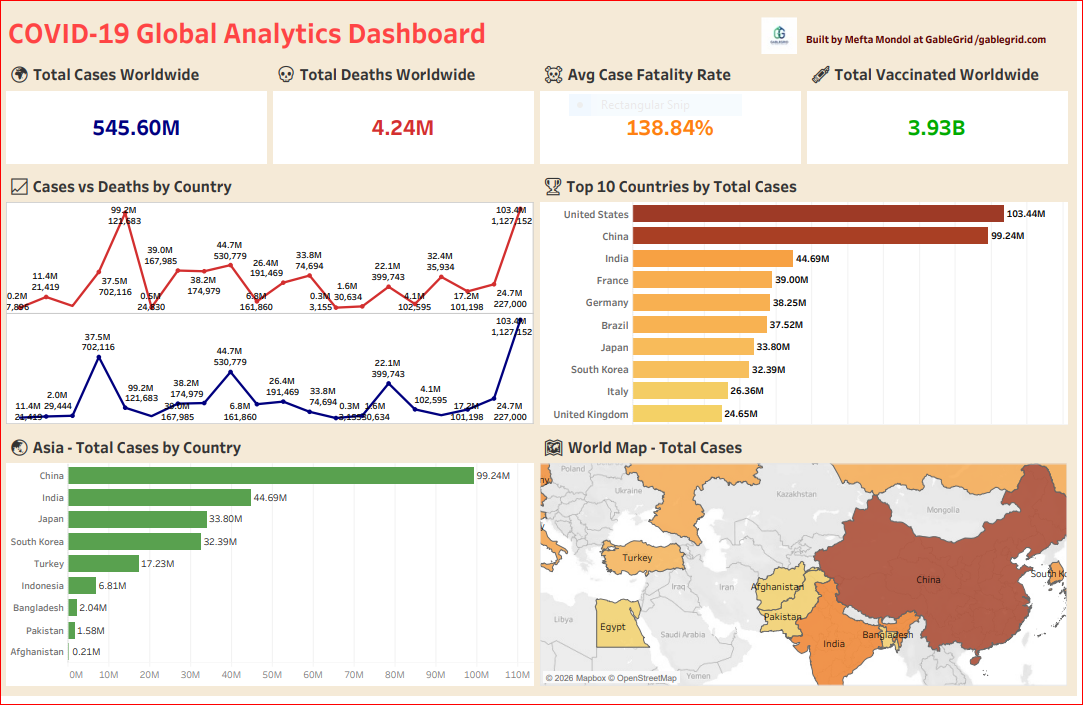

The page's visual inventory and layout, read from the dashboard file:
{"tool":"tableau","page":{"name":"COVID-19 Global Analytics Dashboard Built by Mefta Mondol at GableGrid | gablegrid.com","canvas":[1400,900],"ordinal":0},"visuals":[{"type":"title","box":[8,8,1384,63]},{"type":"image","param":"G:/GableGrid/644211996_122103702729267880_4985545846425743487_n.jpg","box":[991,22,47,46]},{"type":"worksheet","title":"🌍 Total Cases Worldwide","mark":"Text","box":[8,71,346,144.5]},{"type":"worksheet","title":"💀 Total Deaths Worldwide","mark":"Text","box":[354,71,346,144.5]},{"type":"worksheet","title":"☠️ Avg Case Fatality Rate","mark":"Text","box":[700,71,346,144.5]},{"type":"worksheet","title":"💉 Total Vaccinated Worldwide","mark":"Automatic","box":[1046,71,346,144.5]},{"type":"worksheet","title":"📈 Cases vs Deaths by Country","mark":"Line","rows":["total_cases","total_deaths"],"cols":["country"],"box":[8,215.5,692,338.2]},{"type":"worksheet","title":"🏆 Top 10 Countries by Total Cases","mark":"Bar","rows":["country"],"cols":["total_cases"],"box":[700,215.5,692,338.2]},{"type":"worksheet","title":"🌏 Asia - Total Cases by Country","mark":"Bar","rows":["country"],"cols":["total_cases"],"box":[8,553.7,692,338.3]},{"type":"worksheet","title":"🗺️ World Map - Total Cases","mark":"Multipolygon","box":[700,553.7,692,338.3]}]}

Visuals, with their boxes in screenshot pixels (x1, y1, x2, y2), scaled from the page's 1400x900 canvas onto the 1083x705 screenshot:
title: BBox(6, 6, 1077, 56)
image: BBox(767, 17, 803, 53)
"🌍 Total Cases Worldwide" worksheet (Text marks): BBox(6, 56, 274, 169)
"💀 Total Deaths Worldwide" worksheet (Text marks): BBox(274, 56, 542, 169)
"☠️ Avg Case Fatality Rate" worksheet (Text marks): BBox(542, 56, 809, 169)
"💉 Total Vaccinated Worldwide" worksheet: BBox(809, 56, 1077, 169)
"📈 Cases vs Deaths by Country" worksheet (Line marks): BBox(6, 169, 542, 434)
"🏆 Top 10 Countries by Total Cases" worksheet (Bar marks): BBox(542, 169, 1077, 434)
"🌏 Asia - Total Cases by Country" worksheet (Bar marks): BBox(6, 434, 542, 699)
"🗺️ World Map - Total Cases" worksheet (Multipolygon marks): BBox(542, 434, 1077, 699)
